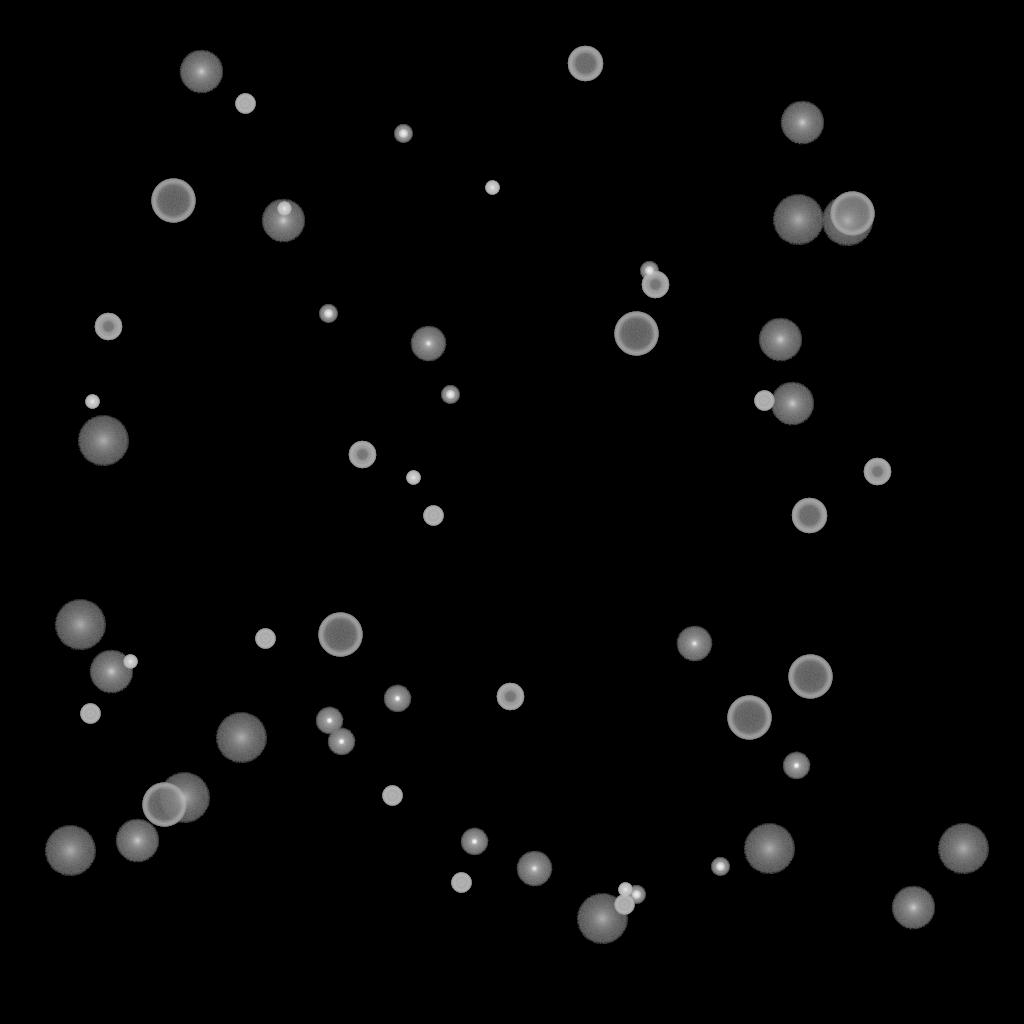depth:-10: (327, 728, 355, 756), (315, 707, 343, 735), (460, 828, 488, 856), (383, 685, 411, 713), (782, 752, 810, 780)
depth:-20: (319, 305, 337, 323), (711, 858, 729, 876), (394, 125, 412, 143), (640, 262, 658, 280), (441, 386, 459, 404), (627, 886, 645, 904)
depth:-30: (123, 655, 137, 669), (277, 202, 291, 216), (406, 471, 420, 485), (618, 883, 632, 897), (485, 181, 499, 195), (85, 395, 99, 409)
depth:-40: (382, 786, 402, 806), (754, 391, 774, 411), (235, 94, 255, 114), (255, 629, 275, 649), (80, 704, 100, 724), (614, 895, 634, 915), (451, 873, 471, 893), (423, 506, 443, 526)
depth:-50: (94, 313, 122, 341), (348, 441, 376, 469), (863, 458, 891, 486), (496, 683, 524, 711), (641, 271, 669, 299)
depth:-60: (567, 46, 603, 82), (791, 498, 827, 534)
depth:-70: (727, 696, 771, 740), (142, 783, 186, 827), (318, 613, 362, 657), (788, 655, 832, 699), (830, 192, 874, 236), (151, 179, 195, 223), (614, 312, 658, 356)
depth:0: (410, 326, 446, 362), (516, 851, 552, 887), (676, 626, 712, 662)
depth:10: (770, 382, 814, 426), (758, 318, 802, 362), (115, 819, 159, 863), (179, 50, 223, 94), (261, 199, 305, 243), (89, 650, 133, 694), (780, 101, 824, 145), (891, 886, 935, 930)
depth:20: (937, 824, 989, 874), (44, 826, 96, 876), (77, 416, 129, 466), (576, 894, 628, 944), (54, 600, 106, 650), (158, 773, 210, 823), (821, 196, 873, 246), (772, 195, 824, 245), (743, 824, 795, 874), (215, 713, 267, 763)
